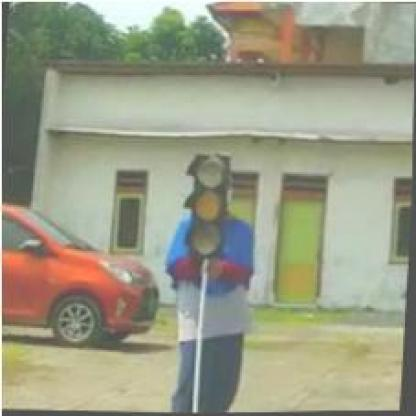yellow: (183, 153, 231, 261)
